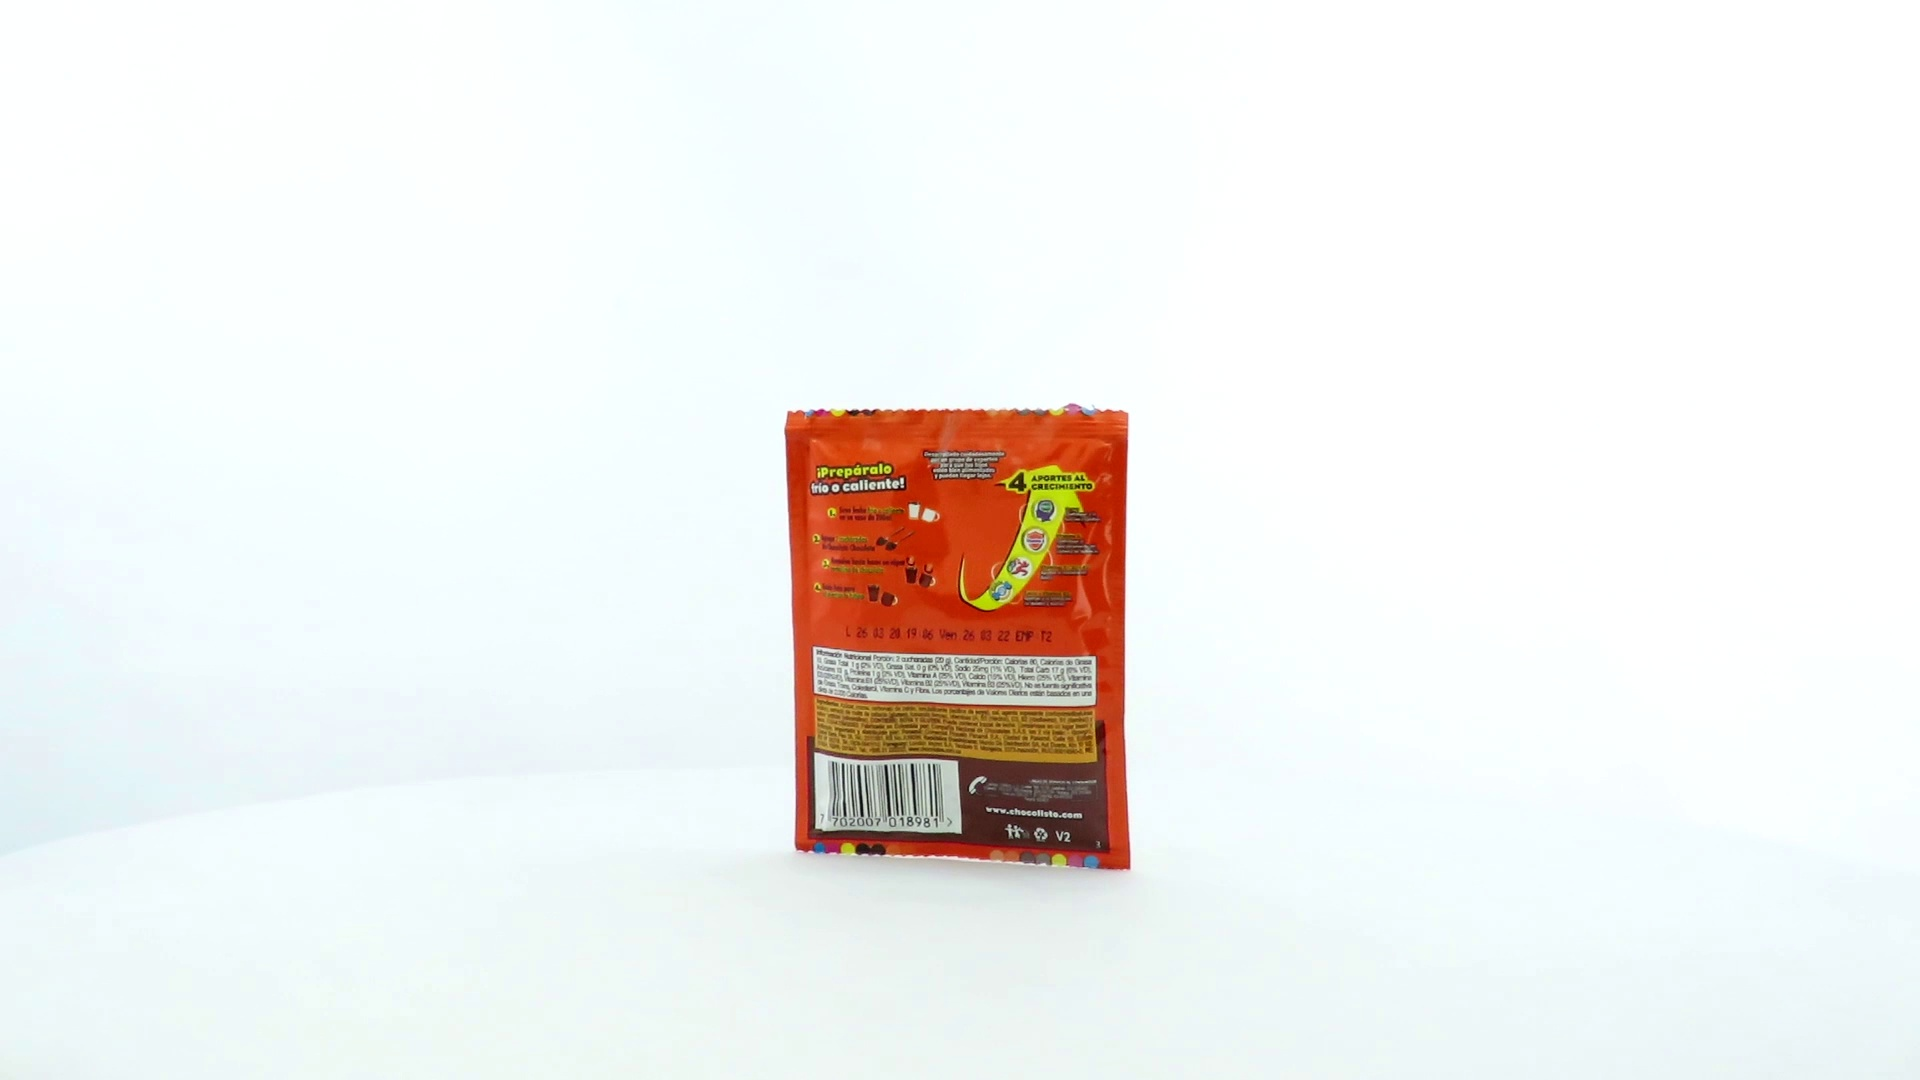COL0170103SOB02000: (779, 398, 1137, 876)
